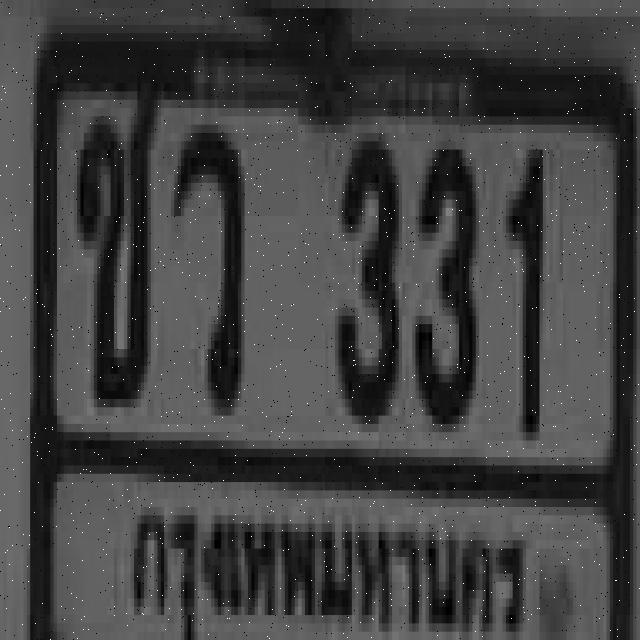1: (502, 142, 540, 424)
19ChorChang: (74, 100, 154, 399)
3: (412, 142, 472, 416), (335, 133, 395, 407)
46WorWaen: (171, 121, 241, 403)
Bangkok: (125, 477, 530, 640)
